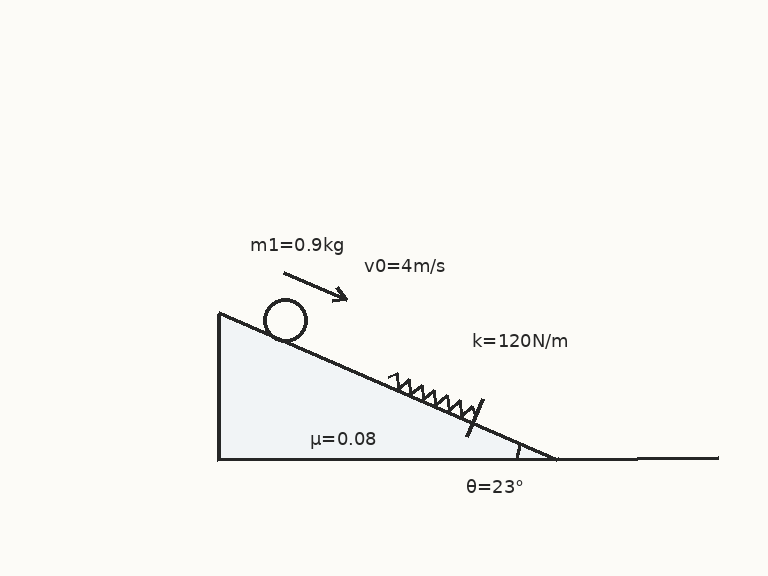ball: (261, 296, 309, 344)
ramp: (216, 313, 559, 461)
spring: (386, 372, 478, 418)
